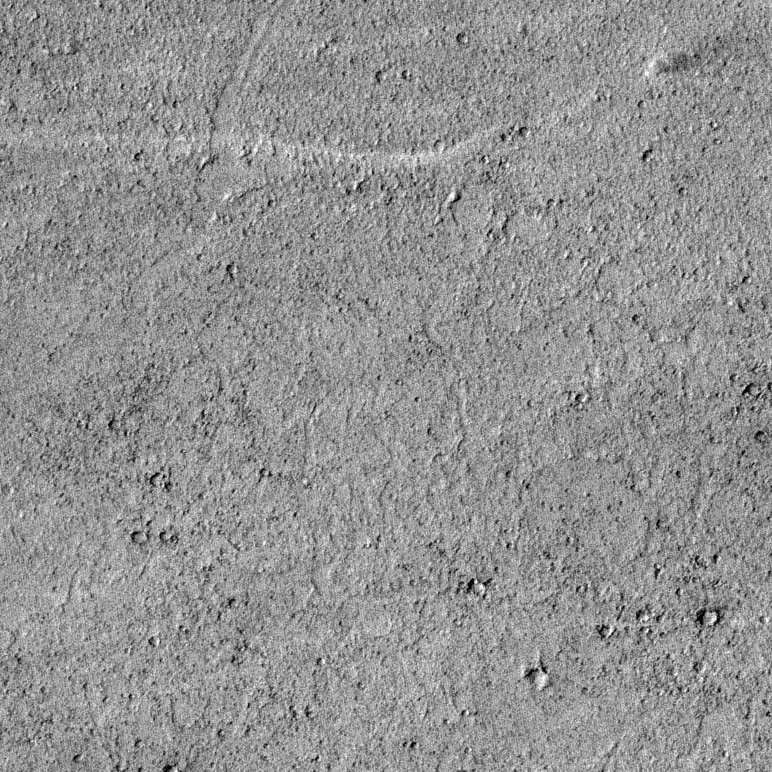dust_devil: (642, 50, 704, 78)
